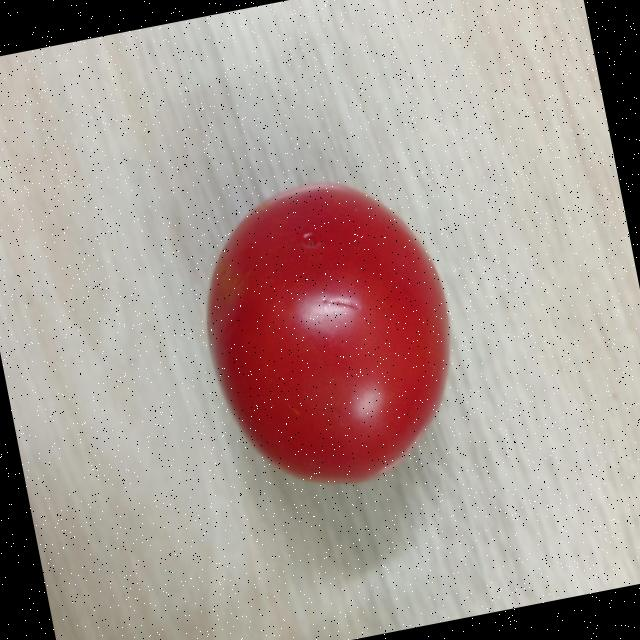Tomato: (180, 160, 479, 506)
